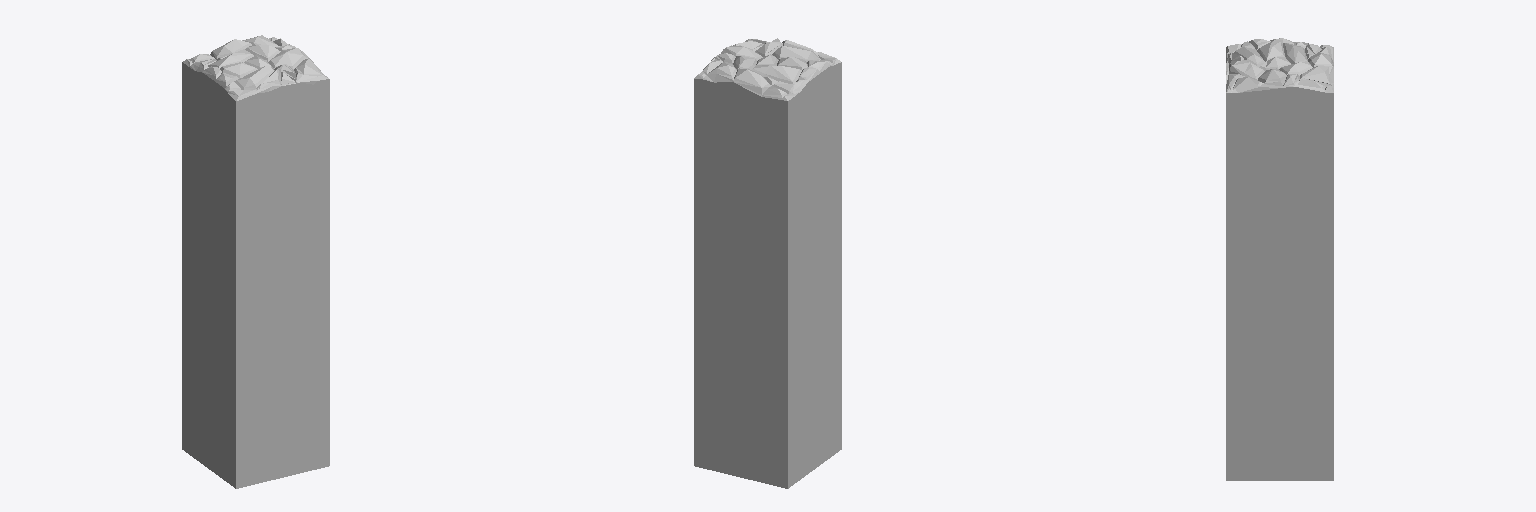
The model's file is steinmauer simple.obj.
3 renders of one model, left to right at view 1: azimuth 30°, elevation 25°; view 2: azimuth 150°, elevation 25°; view 3: azimuth 270°, elevation 25°, orthographic.
Bounding box in the file's own units: 0.5 × 2.06 × 0.5.